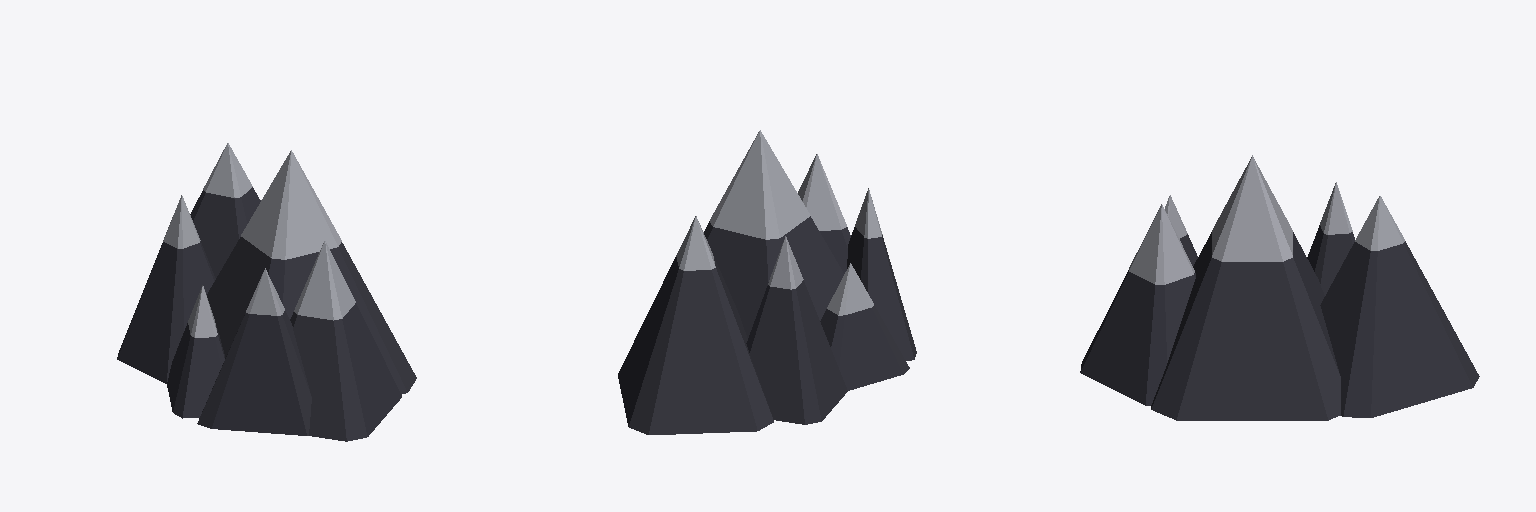
Rendered from mountain2.obj.
3 renders of one model, left to right at view 1: azimuth 30°, elevation 25°; view 2: azimuth 150°, elevation 25°; view 3: azimuth 270°, elevation 25°, orthographic.
Parts seen in each view (by area): view 1: pyramid_bevel; view 2: pyramid_bevel; view 3: pyramid_bevel.
Boxes of the visible parts, box(x1,y1,x2,y2) form: pyramid_bevel: box(117, 143, 416, 441); pyramid_bevel: box(618, 130, 916, 434); pyramid_bevel: box(1080, 155, 1479, 420).
Bounding box in the file's own units: 3.74 × 3.63 × 5.91.